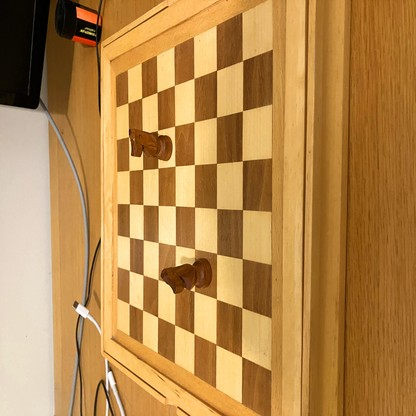knight_black: (163, 259, 212, 292), (129, 129, 173, 160)
